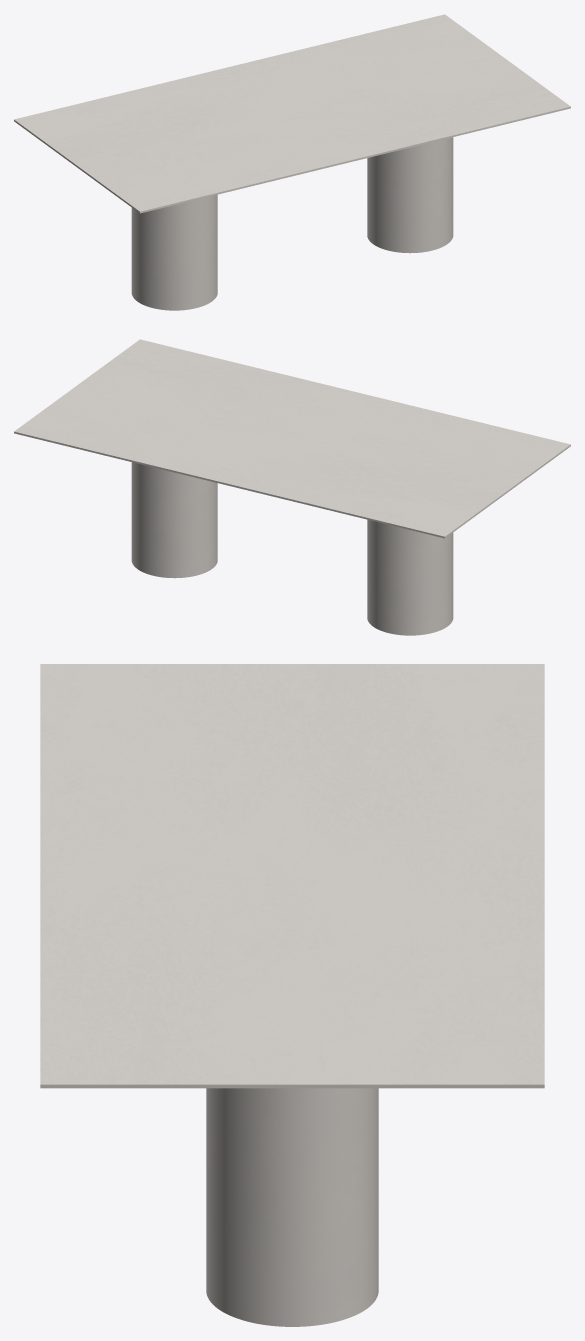
Rendered from pearlwhite_recta_facet_stream.glb.
3 renders of one model, top to bottom at view 1: azimuth 30°, elevation 25°; view 2: azimuth 150°, elevation 25°; view 3: azimuth 270°, elevation 25°, orthographic. The views are drawn at different scales.
Visible parts, largest first — view 1: facet_recta, stream; view 2: facet_recta, stream; view 3: facet_recta, stream.
Part boxes in pixels (x1,y1,x2,y2): facet_recta: (14, 14, 570, 213); stream: (131, 137, 453, 310); facet_recta: (14, 339, 570, 538); stream: (131, 462, 453, 635); facet_recta: (40, 664, 544, 1088); stream: (206, 1088, 378, 1326).
Bounding box in the file's own units: 7.5 × 2.51 × 3.8.
Materials: 1 (1 with a texture image).
